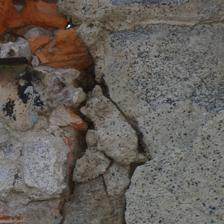Crack: (60, 13, 193, 136), (0, 54, 83, 121), (139, 171, 189, 210)
